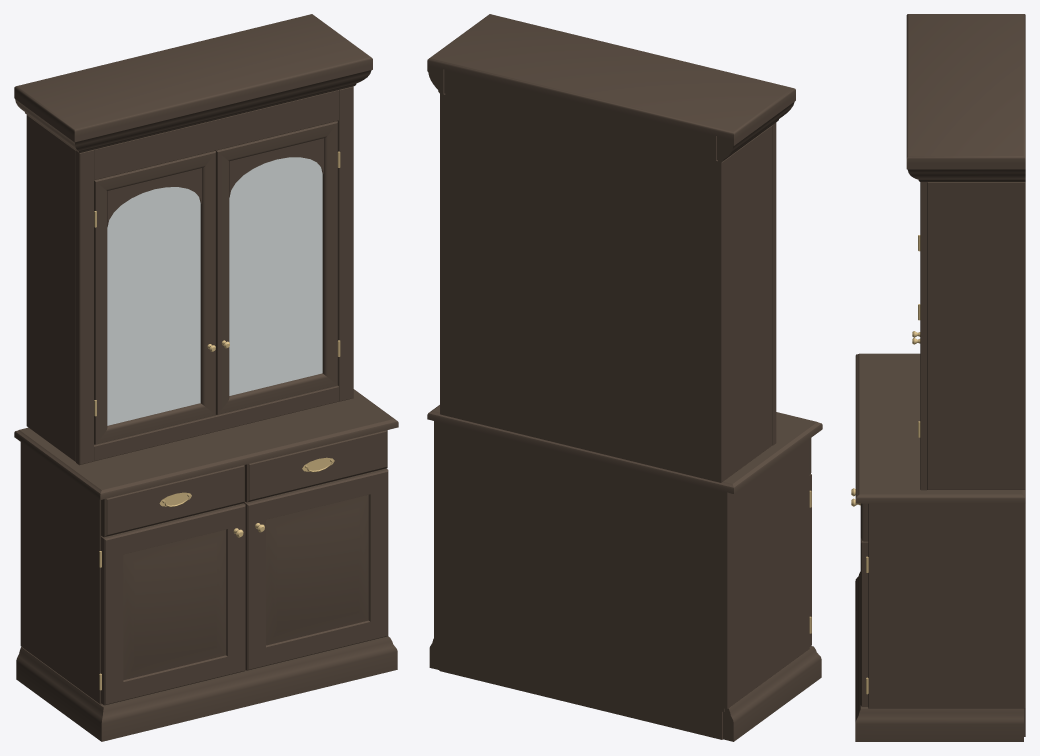
The model's file is Kit_Hutch.fbx.
3 views of the same model, side by side, from view 1: azimuth 30°, elevation 25°; view 2: azimuth 150°, elevation 25°; view 3: azimuth 270°, elevation 25° (orthographic). The views are drawn at different scales.
Visible parts, largest first — view 1: Kit_Hutch_LOD0; view 2: Kit_Hutch_LOD0; view 3: Kit_Hutch_LOD0.
Part boxes in pixels (x1,y1,x2,y2): Kit_Hutch_LOD0: (14,14,398,741); Kit_Hutch_LOD0: (427,14,822,741); Kit_Hutch_LOD0: (851,14,1025,741).
Size of what is drawn, in the model's own units: 1 by 1.9 by 0.513.
